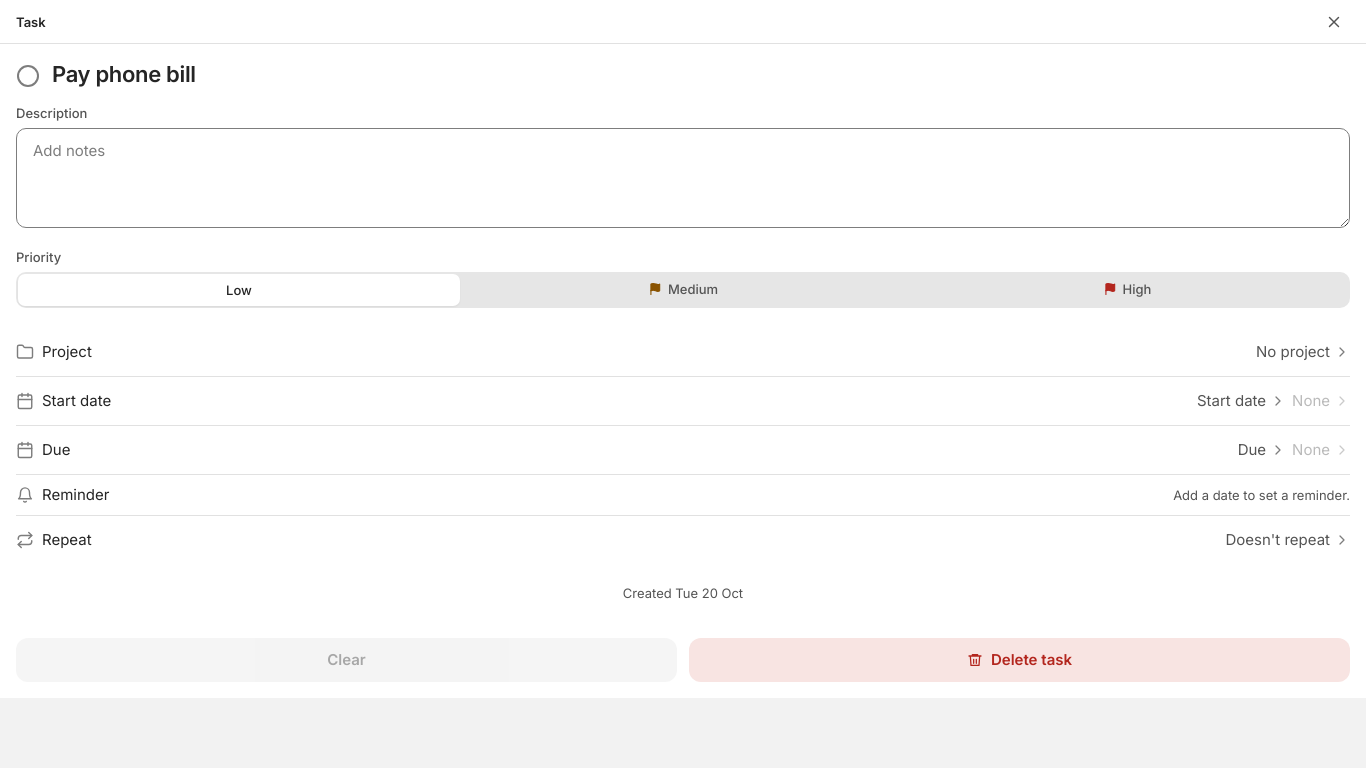
Test: Delete a task (TK-5) › puts the row back and offers Retry when the delete fails
Click the button "Delete task": x=1020, y=660 [689,638,1350,682]
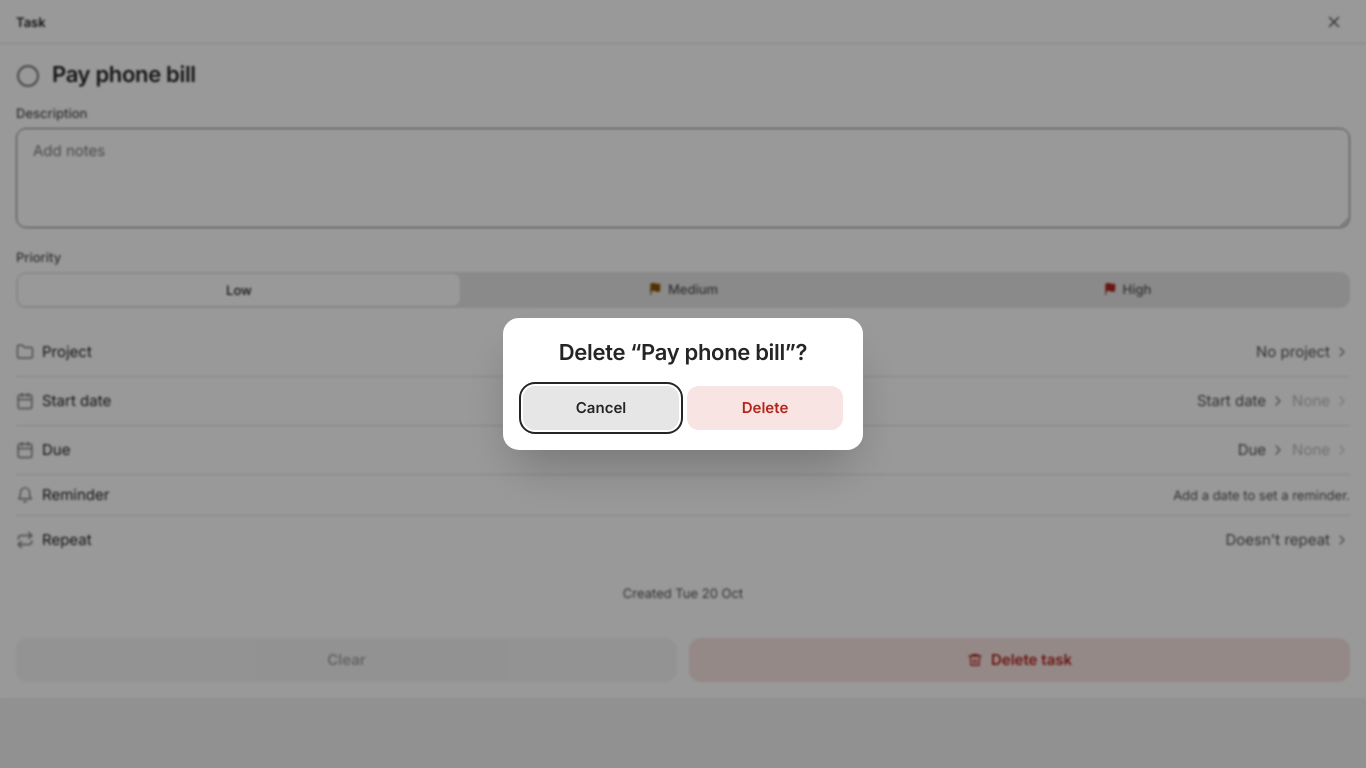
Click the button "Delete": x=765, y=408 [687,386,843,430]
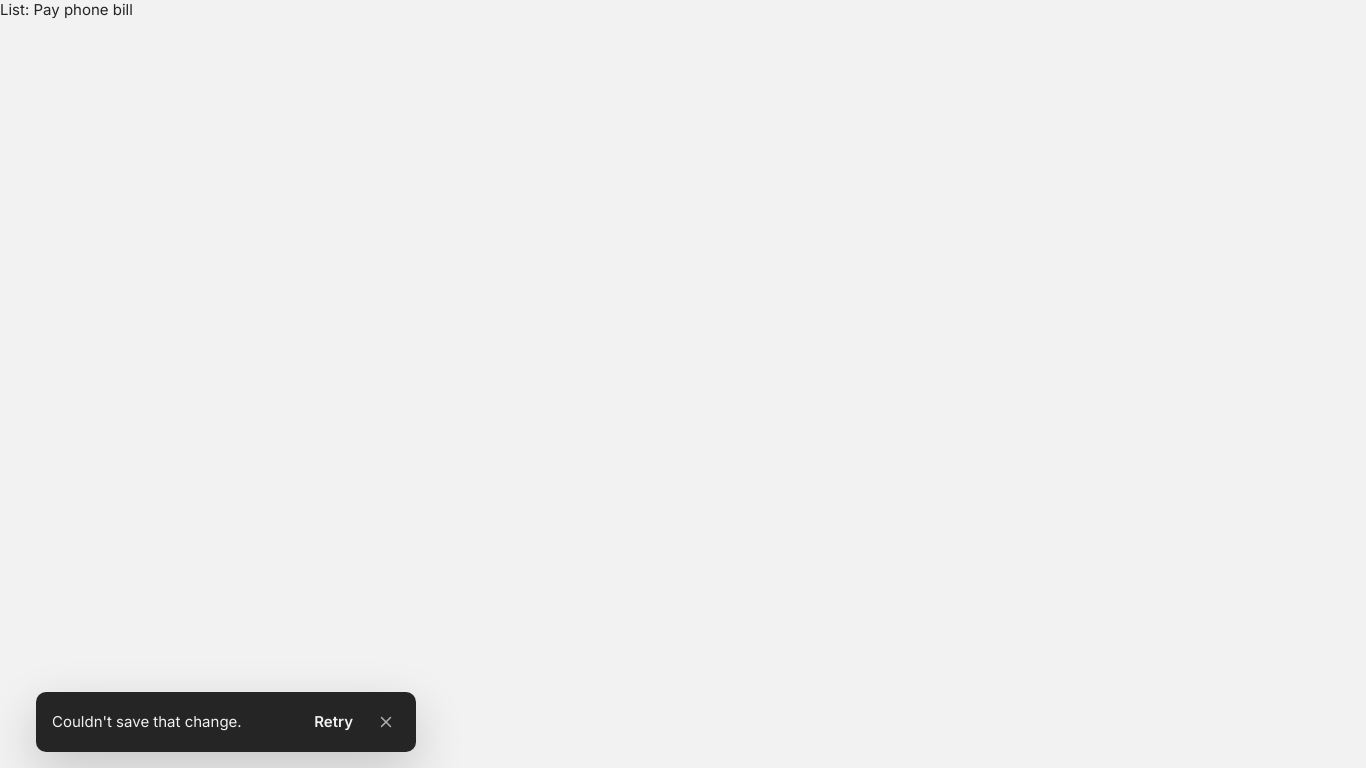
Result: the text "Couldn't save that change." is shown at [52,712,242,731]
Result: the heading "List: Pay phone bill" is shown at [0,0,133,19]
